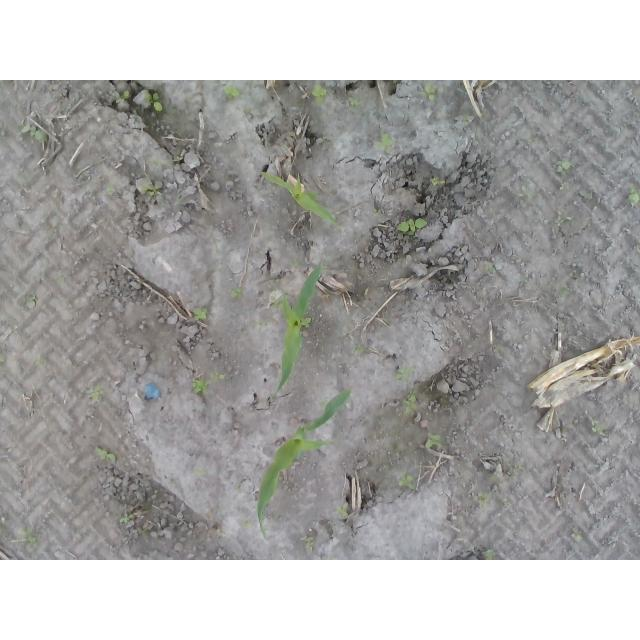Maize: (257, 387, 355, 547), (270, 265, 323, 399), (263, 170, 341, 230)
Weeds: (190, 369, 224, 395), (16, 124, 49, 144), (398, 218, 428, 236), (143, 89, 165, 112), (400, 389, 416, 418), (372, 132, 394, 153), (416, 83, 440, 102), (552, 159, 577, 177), (299, 528, 317, 553), (554, 207, 575, 226), (312, 83, 329, 106), (398, 470, 417, 490), (18, 526, 39, 544), (17, 288, 37, 305), (625, 181, 640, 203), (96, 447, 116, 463), (423, 432, 441, 449), (88, 383, 105, 401), (514, 182, 532, 199), (478, 490, 497, 506), (395, 368, 417, 381), (192, 307, 209, 322), (335, 501, 349, 519), (223, 86, 241, 99), (144, 185, 161, 198), (592, 419, 607, 433), (569, 527, 583, 542), (347, 93, 362, 107), (120, 512, 137, 524), (462, 113, 476, 127), (481, 548, 496, 561), (480, 260, 496, 272), (117, 90, 131, 103), (105, 182, 116, 198), (36, 354, 49, 367), (257, 527, 272, 538), (56, 271, 65, 289), (256, 320, 272, 329), (370, 207, 384, 217), (289, 258, 303, 268), (431, 177, 446, 186), (559, 286, 570, 298), (300, 317, 312, 328), (355, 343, 366, 354), (387, 80, 399, 90), (231, 287, 241, 299), (271, 276, 282, 285), (261, 170, 274, 177), (518, 275, 529, 283), (151, 158, 162, 166), (173, 155, 183, 163), (320, 265, 329, 273), (0, 351, 4, 368)
